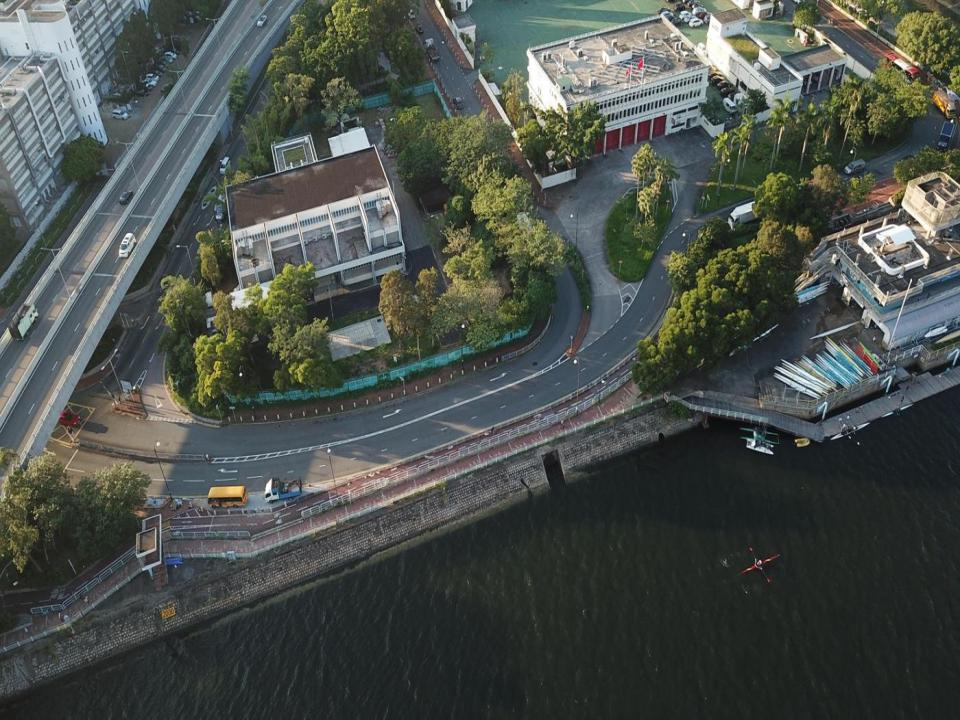bus: (883, 52, 918, 89), (207, 485, 248, 508)
car: (118, 232, 136, 258), (55, 411, 80, 426), (119, 189, 133, 205), (452, 96, 464, 110), (134, 87, 150, 97), (706, 70, 722, 80), (710, 75, 725, 85), (154, 62, 167, 73), (406, 5, 416, 19), (140, 78, 157, 86), (145, 73, 160, 82), (257, 15, 267, 28), (718, 80, 731, 90), (689, 17, 703, 26), (693, 5, 707, 14), (720, 87, 734, 96), (704, 14, 716, 24), (729, 92, 741, 102), (158, 56, 174, 63), (671, 17, 683, 26), (139, 82, 152, 90), (149, 70, 162, 78), (164, 52, 177, 60), (660, 11, 673, 19), (658, 6, 670, 14), (674, 3, 686, 11), (685, 0, 698, 7), (664, 14, 675, 22), (684, 15, 696, 22), (691, 2, 703, 9), (173, 37, 188, 42), (699, 13, 711, 19), (416, 24, 423, 34), (680, 11, 690, 18)
truck: (728, 198, 767, 230), (8, 302, 38, 341), (262, 475, 302, 503), (933, 89, 956, 118), (936, 121, 955, 154), (424, 38, 439, 62)
van: (896, 154, 916, 173), (216, 193, 228, 223), (845, 159, 866, 174), (724, 97, 737, 116), (220, 156, 231, 175), (112, 109, 128, 119)
